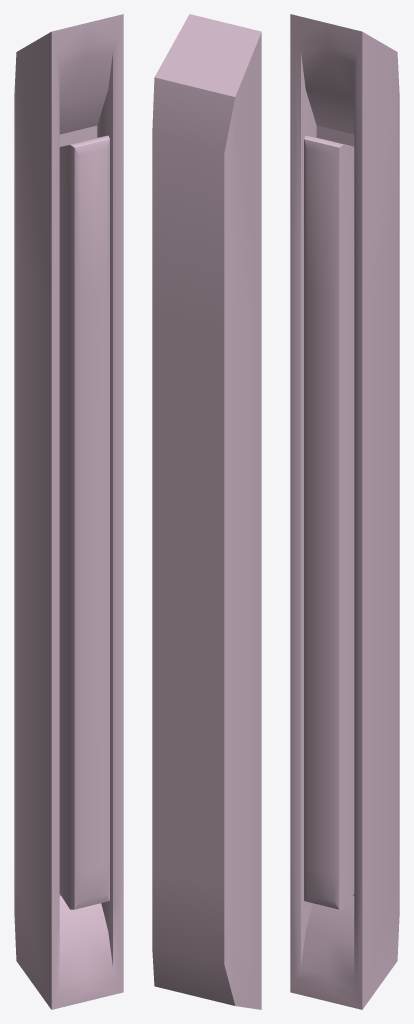
File: FactoryLamp.fbx
3 views of the same model, side by side, from view 1: azimuth 30°, elevation 25°; view 2: azimuth 150°, elevation 25°; view 3: azimuth 330°, elevation 25° (orthographic).
Parts seen in each view (by area): view 1: FactoryLamp; view 2: FactoryLamp; view 3: FactoryLamp.
Boxes of the visible parts, box(x1,y1,x2,y2) form: FactoryLamp: box(14, 14, 123, 1009); FactoryLamp: box(152, 14, 261, 1009); FactoryLamp: box(290, 14, 399, 1009).
Size of the model in its own units: 11.22 by 130 by 10.36.
